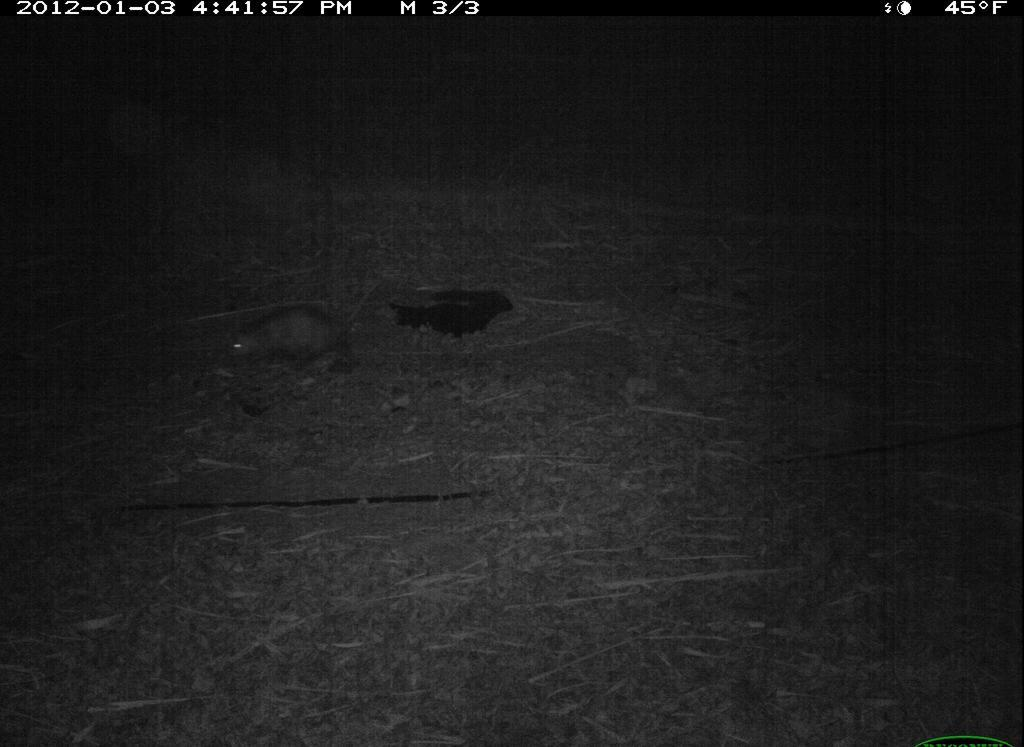opossum: (210, 295, 381, 387)
